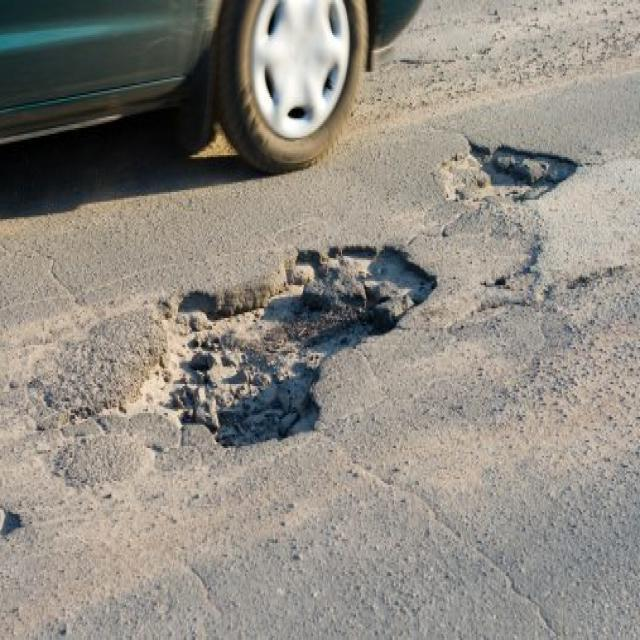pothole: (88, 237, 439, 447), (425, 138, 583, 214), (0, 502, 24, 538)
